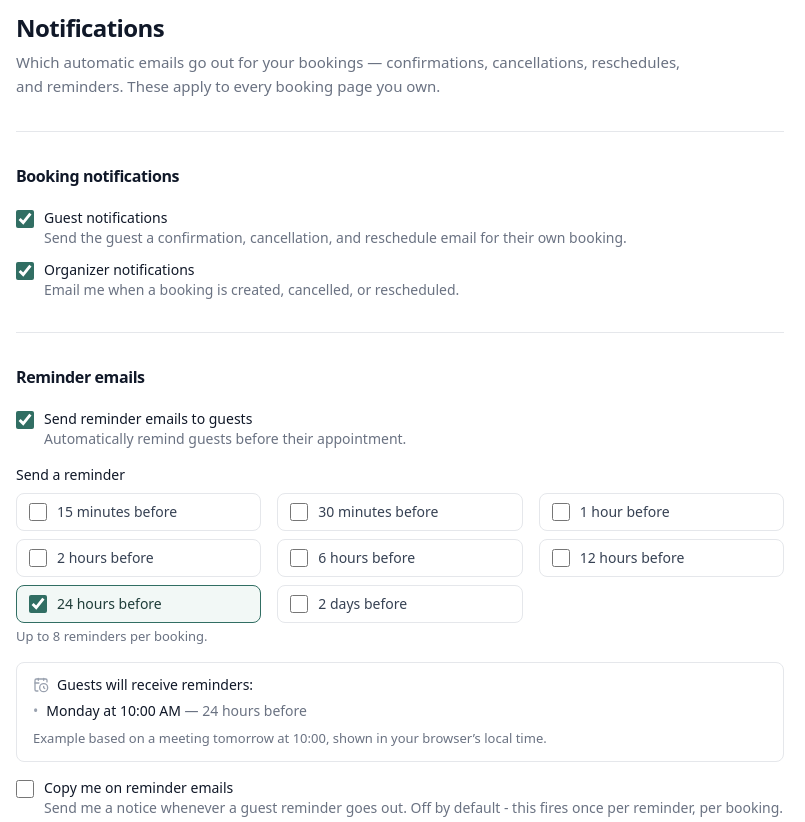
Test case: NotificationSettingsPage › updates the preview immediately when a reminder is ticked
Expected: the number of list items is 1, [33, 701, 307, 720]
Click the checkbox labelled "1 hour before" at (561,512), box [552, 503, 570, 521]
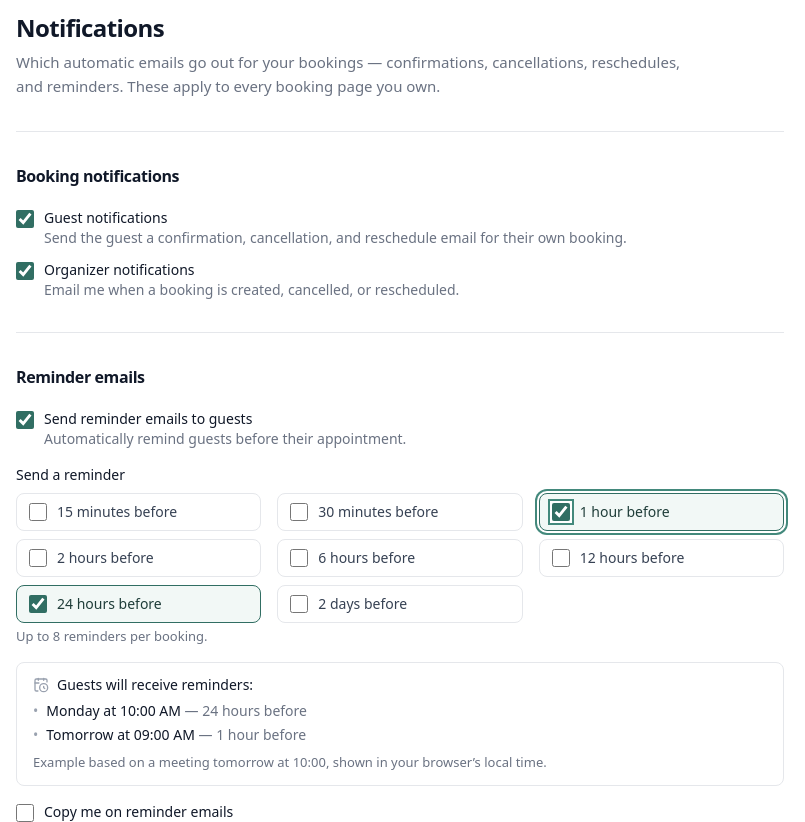
Expected: the number of list items is 2, [33, 701, 307, 720]; [33, 725, 306, 744]
Expected: the text "— 1 hour before" is shown, [195, 725, 306, 744]
